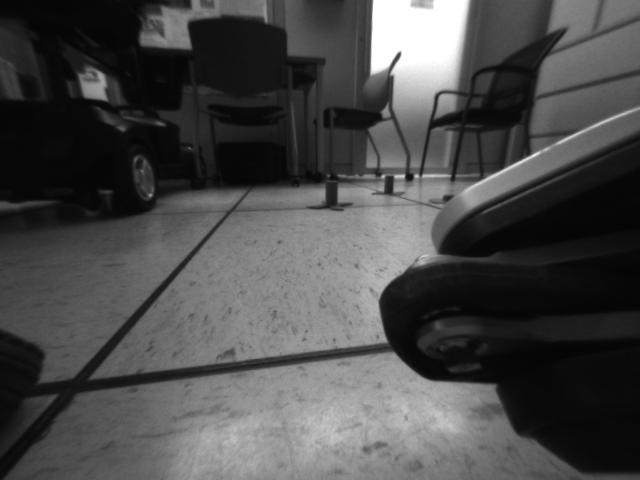X: (307, 179, 358, 214), (374, 173, 405, 196)
